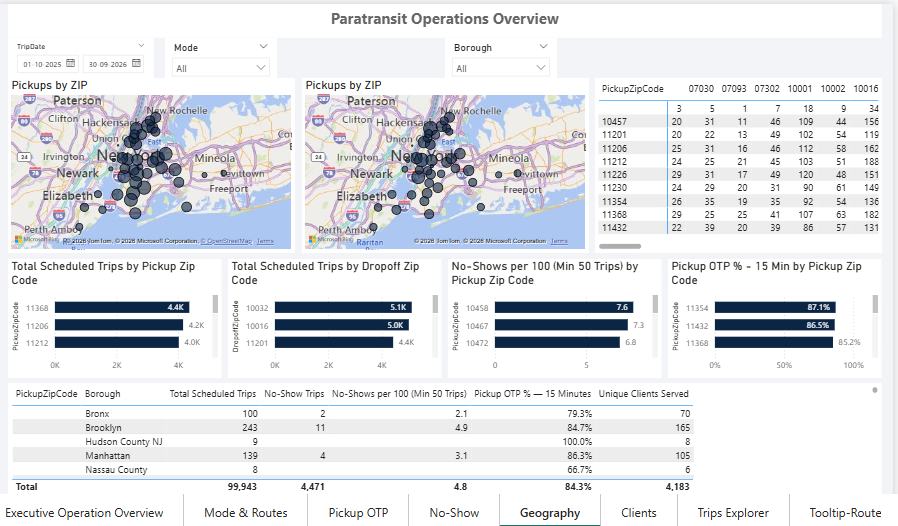

The dashboard page shown, as its layout file describes it:
{"tool":"powerbi","page":{"name":"Geography","canvas":[1280,720],"ordinal":4},"visuals":[{"type":"textbox","box":[16,0,1248,48],"z":0},{"type":"slicer","fields":{"Values":["Trips.TripDate"]},"box":[16,48,208,64],"z":1000},{"type":"slicer","fields":{"Values":["Trips.Mode"]},"box":[240,48,160,64],"z":2000},{"type":"slicer","fields":{"Values":["Trips.Borough"]},"box":[640,48,160,64],"z":3000},{"type":"map","title":"Pickups by ZIP","fields":{"Category":["Trips.PickupZipCode"],"Y":["Avg(Trips.PickupLatitude)"],"X":["Avg(Trips.PickupLongitude)"],"Size":["Trips.Total Scheduled Trips"]},"box":[16,106,410,250],"z":4000},{"type":"map","title":"Pickups by ZIP","fields":{"Size":["Trips.Total Scheduled Trips"],"Category":["Trips.DropoffZipCode"],"Y":["Avg(Trips.DropoffLatitude)"],"X":["Avg(Trips.DropoffLongitude)"]},"box":[435,106,410,250],"z":5000},{"type":"pivotTable","fields":{"Rows":["Trips.PickupZipCode"],"Columns":["Trips.DropoffZipCode"],"Values":["Trips.Completed Trips"]},"box":[854,106,410,250],"z":6000},{"type":"clusteredBarChart","title":"Total Scheduled Trips by Pickup Zip Code","fields":{"Category":["Trips.PickupZipCode"],"Y":["Trips.Total Scheduled Trips"]},"box":[16,364,305,170],"z":7000},{"type":"clusteredBarChart","title":"Total Scheduled Trips by Dropoff Zip Code","fields":{"Y":["Trips.Total Scheduled Trips"],"Category":["Trips.DropoffZipCode"]},"box":[330,364,305,170],"z":8000},{"type":"clusteredBarChart","title":"No-Shows per 100 (Min 50 Trips) by Pickup Zip Code","fields":{"Category":["Trips.PickupZipCode"],"Y":["Trips.No-Shows per 100 (Min 50 Trips)"]},"box":[644,364,305,170],"z":9000},{"type":"clusteredBarChart","title":"Pickup OTP % - 15 Min by Pickup Zip Code","fields":{"Category":["Trips.PickupZipCode"],"Y":["Trips.Pickup OTP % — 15 Minutes"]},"box":[958,364,305,170],"z":10000},{"type":"tableEx","fields":{"Values":["Trips.PickupZipCode","Trips.Borough","Trips.Total Scheduled Trips","Trips.No-Show Trips","Trips.No-Shows per 100 (Min 50 Trips)","Trips.Pickup OTP % — 15 Minutes","Trips.Unique Clients Served"]},"box":[16,542,1248,162],"z":11000}]}

Visuals, with their boxes on the page's 1280x720 design canvas (x1, y1, x2, y2). These are canvas units, not pixel positions in the 898x526 screenshot, which may show the page scaled, cropped or inside an application window:
textbox: 16 0 1264 48
slicer - Trips.TripDate: 16 48 224 112
slicer - Trips.Mode: 240 48 400 112
slicer - Trips.Borough: 640 48 800 112
"Pickups by ZIP" map: 16 106 426 356
"Pickups by ZIP" map: 435 106 845 356
pivotTable - Trips.PickupZipCode x Trips.DropoffZipCode: 854 106 1264 356
"Total Scheduled Trips by Pickup Zip Code" clusteredBarChart: 16 364 321 534
"Total Scheduled Trips by Dropoff Zip Code" clusteredBarChart: 330 364 635 534
"No-Shows per 100 (Min 50 Trips) by Pickup Zip Code" clusteredBarChart: 644 364 949 534
"Pickup OTP % - 15 Min by Pickup Zip Code" clusteredBarChart: 958 364 1263 534
tableEx - Trips.PickupZipCode x Trips.Borough: 16 542 1264 704
